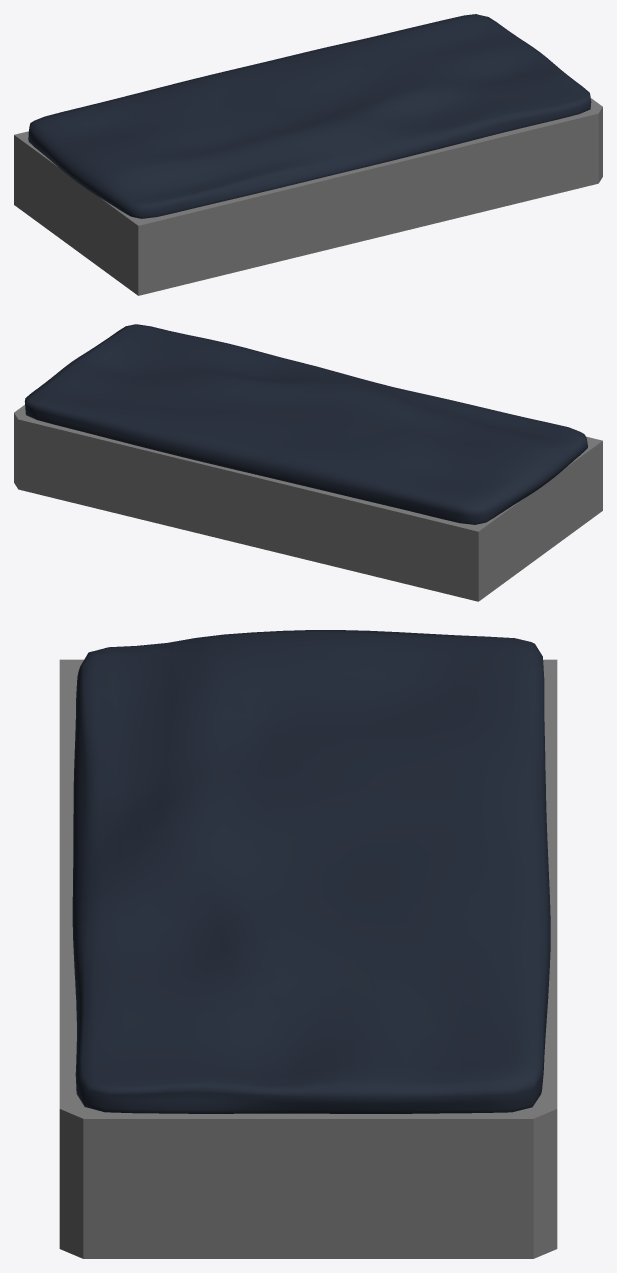
The model's file is CapstoneSpaceshipINSIDE_Bed.fbx.
3 renders of one model, top to bottom at view 1: azimuth 30°, elevation 25°; view 2: azimuth 150°, elevation 25°; view 3: azimuth 270°, elevation 25°, orthographic. The views are drawn at different scales.
Parts seen in each view (by area): view 1: Cube.056, Cube.018; view 2: Cube.056, Cube.018; view 3: Cube.056, Cube.018.
Boxes of the visible parts, left/top/right/bottom form: Cube.056: left=28, top=14, right=591, bottom=218; Cube.018: left=14, top=98, right=602, bottom=295; Cube.056: left=24, top=324, right=587, bottom=524; Cube.018: left=14, top=405, right=602, bottom=601; Cube.056: left=72, top=630, right=550, bottom=1113; Cube.018: left=59, top=659, right=557, bottom=1258.
Bounding box in the file's own units: 300 × 55.9 × 136.
